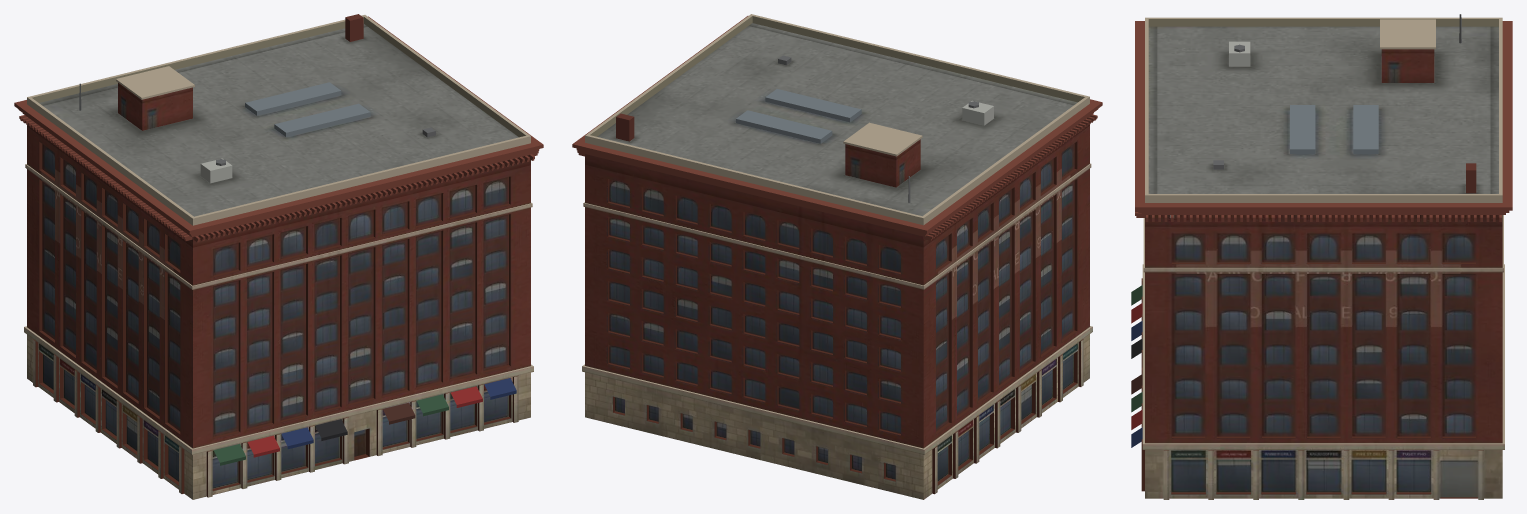
File: seattle_pioneer_b.glb
3 renders of one model, left to right at view 1: azimuth 30°, elevation 25°; view 2: azimuth 150°, elevation 25°; view 3: azimuth 270°, elevation 25°, orthographic. The views are drawn at different scales.
Parts seen in each view (by area): view 1: seattle_pioneer_b; view 2: seattle_pioneer_b; view 3: seattle_pioneer_b.
Part boxes in pixels (box(x1,y1,x2,y2)): seattle_pioneer_b: box(14, 14, 543, 499); seattle_pioneer_b: box(572, 14, 1102, 499); seattle_pioneer_b: box(1131, 14, 1512, 499).
Size of the model in its own units: 41.9 by 34.82 by 36.25.
Materials: 1 (1 with a texture image).
